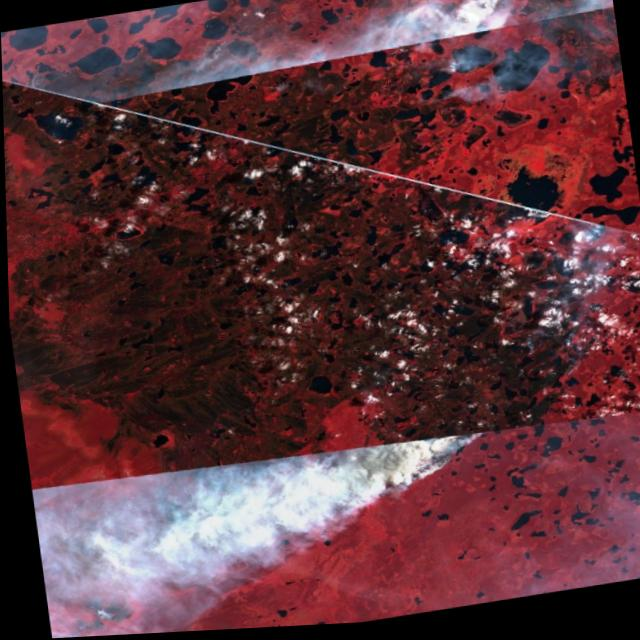fire: (357, 418, 506, 508), (481, 0, 550, 22)
